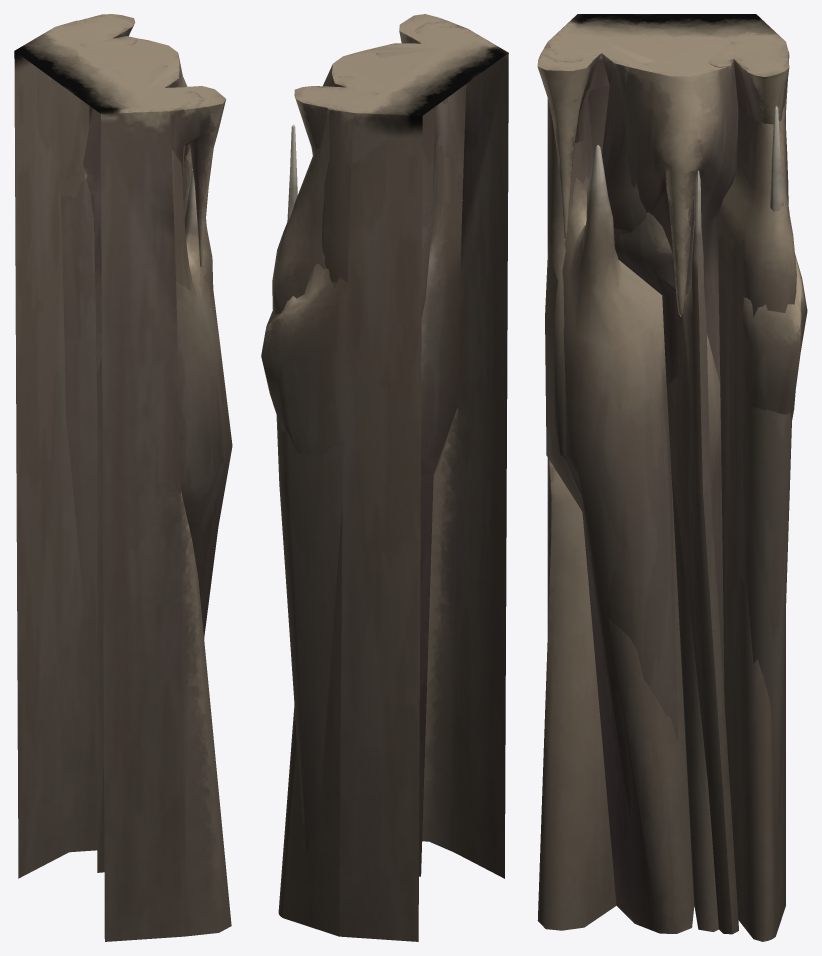
File: cave_wall.gltf
3 renders of one model, left to right at view 1: azimuth 30°, elevation 25°; view 2: azimuth 150°, elevation 25°; view 3: azimuth 270°, elevation 25°, orthographic. The views are drawn at different scales.
Visible parts, largest first — view 1: Wall_1, Wall_3, Wall_2; view 2: Wall_1, Wall_3, Wall_2, Wall_4; view 3: Wall_1, Wall_3, Wall_2, Wall_4.
Part boxes in pixels (x1,y1,x2,y2): Wall_1: [14, 20, 231, 941]; Wall_3: [55, 14, 232, 872]; Wall_2: [57, 22, 225, 872]; Wall_1: [272, 14, 508, 941]; Wall_3: [278, 26, 467, 936]; Wall_2: [261, 46, 448, 474]; Wall_4: [281, 21, 453, 313]; Wall_1: [537, 14, 796, 934]; Wall_3: [545, 41, 789, 941]; Wall_2: [547, 41, 807, 933]; Wall_4: [541, 53, 796, 296].
Size of the model in its own units: 3.65 by 19.85 by 5.67.
Materials: 1 (1 with a texture image).
